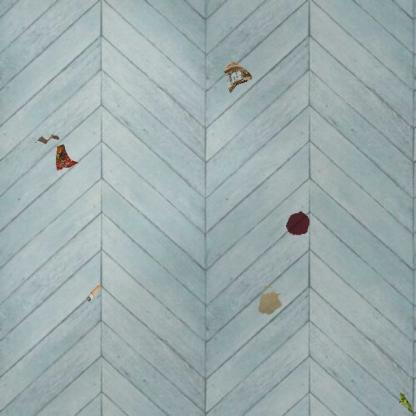dirty: (222, 59, 254, 95), (54, 142, 82, 173), (396, 388, 416, 416), (84, 283, 102, 304), (32, 133, 61, 146)
liquid: (257, 284, 283, 316), (284, 210, 310, 237)
